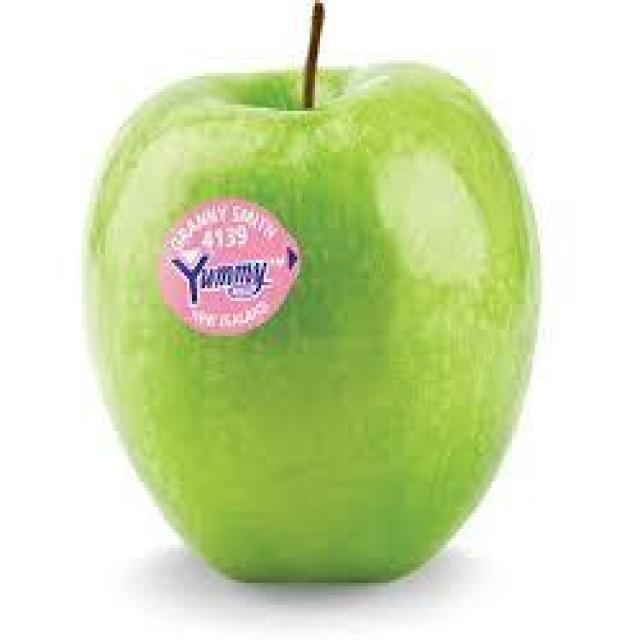maca: (79, 0, 543, 583)
